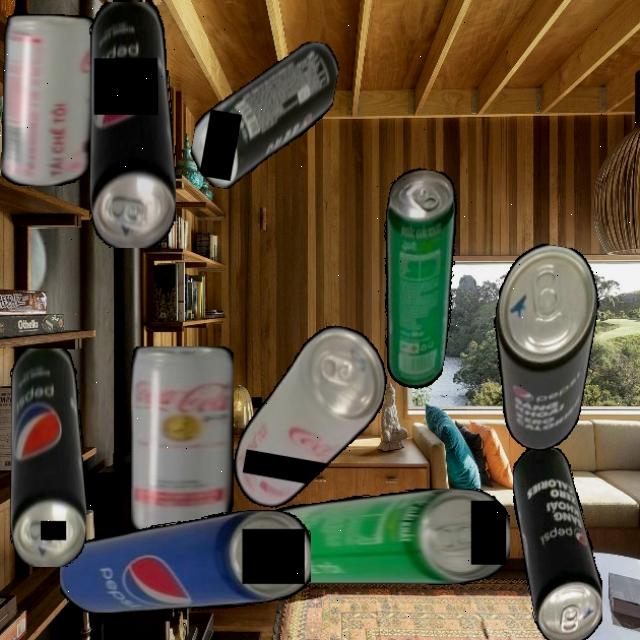debris: (228, 313, 394, 523), (473, 238, 608, 456), (186, 24, 342, 204), (358, 165, 476, 392), (59, 510, 311, 613), (255, 489, 510, 585), (88, 1, 176, 248), (131, 346, 234, 538), (512, 447, 602, 640), (9, 347, 86, 567), (1, 13, 97, 186)
